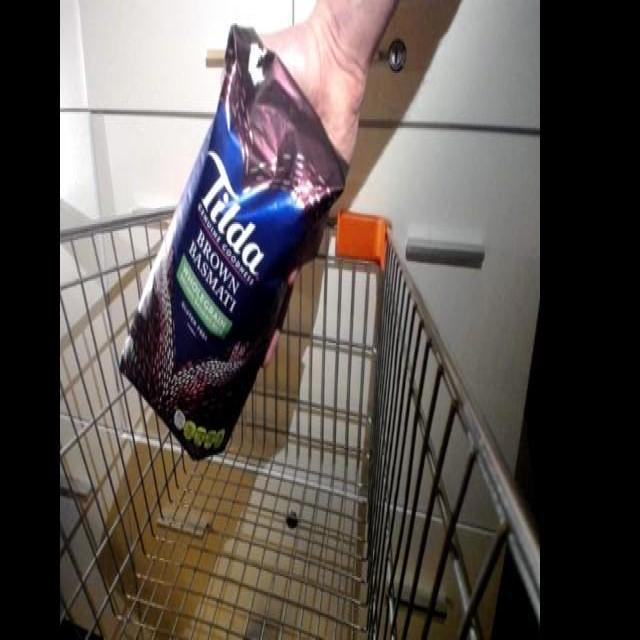Tida: (116, 21, 372, 462)
